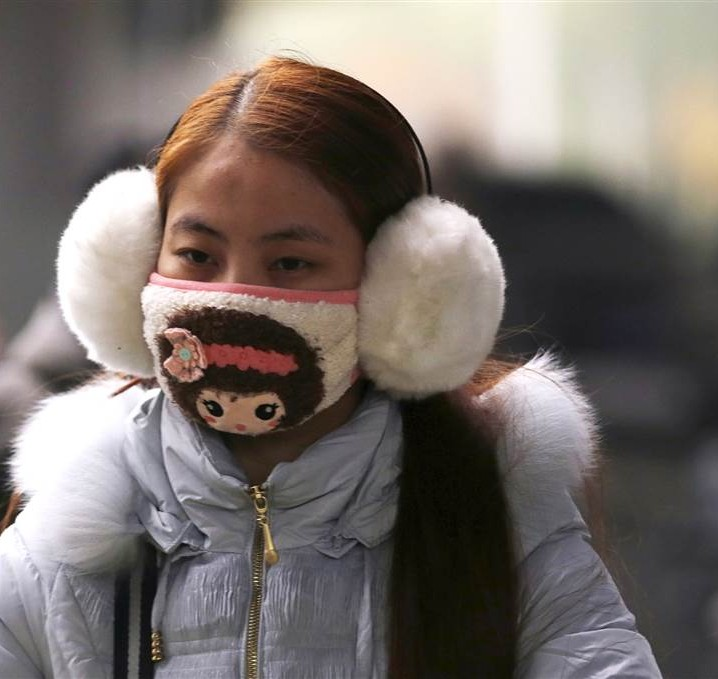with_mask: (153, 150, 375, 441)
